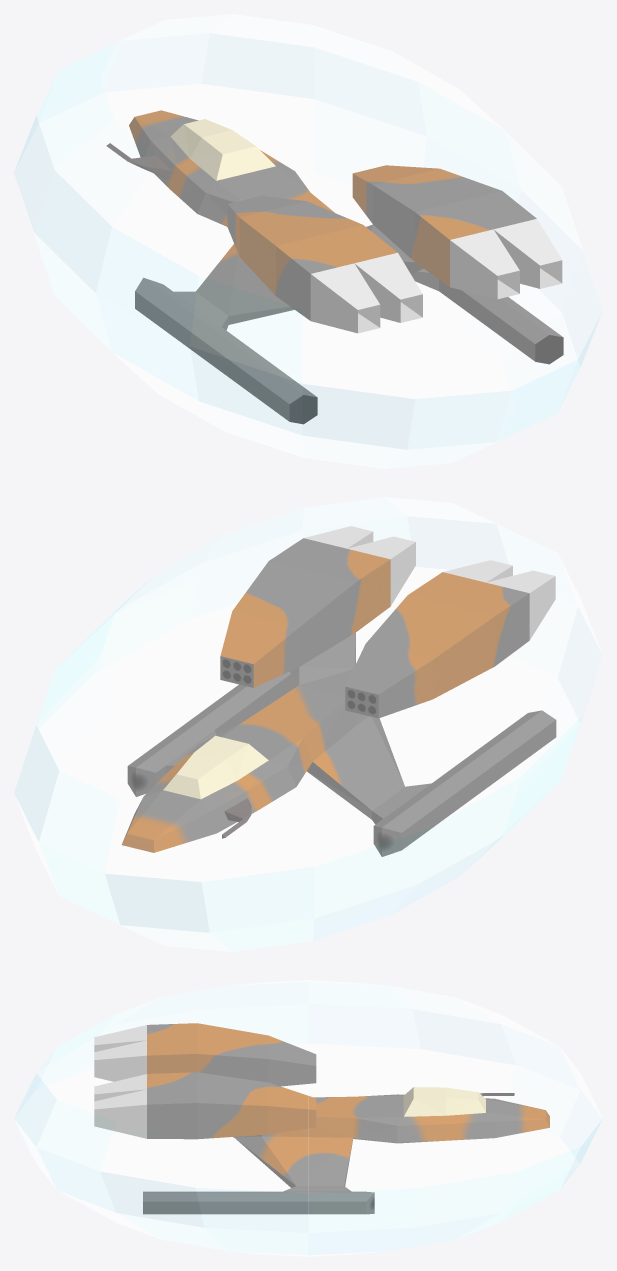
Rendered from fighter_spider.dae.
3 views of the same model, one above another, from view 1: azimuth 30°, elevation 25°; view 2: azimuth 150°, elevation 25°; view 3: azimuth 270°, elevation 25° (orthographic). The views are drawn at different scales.
Parts seen in each view (by area): view 1: Shield Rear, Shield Left, Shield Front, Shield Right, Fuselage, Exhaust; view 2: Shield Front, Shield Left, Fuselage, Shield Right, Shield Rear, Exhaust; view 3: Shield Right, Shield Left, Fuselage, Shield Front, Shield Rear, Exhaust.
Boxes of the visible parts, x1,y1,x2,y2 form: Shield Rear: [302, 78, 602, 468]; Shield Left: [14, 64, 307, 457]; Shield Front: [14, 14, 314, 390]; Shield Right: [309, 25, 602, 418]; Fuselage: [106, 110, 563, 424]; Exhaust: [310, 219, 562, 333]; Shield Front: [14, 561, 314, 951]; Shield Left: [309, 547, 602, 940]; Fuselage: [122, 538, 556, 856]; Shield Right: [14, 508, 307, 901]; Shield Rear: [303, 497, 602, 887]; Exhaust: [304, 526, 555, 639]; Shield Right: [100, 1000, 516, 1256]; Shield Left: [105, 980, 516, 1236]; Fuselage: [143, 1023, 549, 1214]; Shield Front: [310, 989, 602, 1247]; Shield Rear: [14, 989, 306, 1247]; Exhaust: [94, 1025, 146, 1138].
Size of what is drawn, in the model's own units: 2.17 by 3.59 by 1.6.
Materials: 2 (1 with a texture image).
